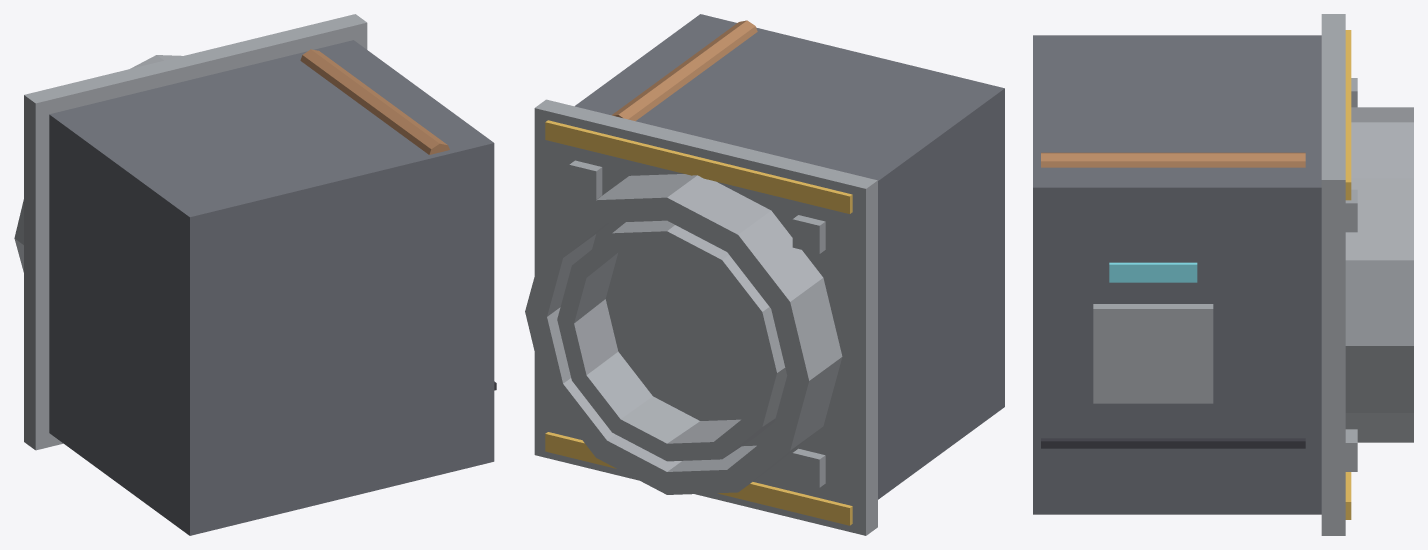
The model's file is dock_collar.glb.
The picture shows the model from 3 angles, left to right: view 1: azimuth 30°, elevation 25°; view 2: azimuth 150°, elevation 25°; view 3: azimuth 270°, elevation 25°; orthographic projection. The views are drawn at different scales.
Parts seen in each view (by area): view 1: object 1; view 2: object 1, dock_tube; view 3: object 1.
Part boxes in pixels (x1,y1,x2,y2): object 1: (14,14,496,535); object 1: (525,14,1004,535); dock_tube: (557,220,787,461); object 1: (1033,14,1413,535).
Size of the model in its own units: 0.98 by 0.98 by 0.95.
